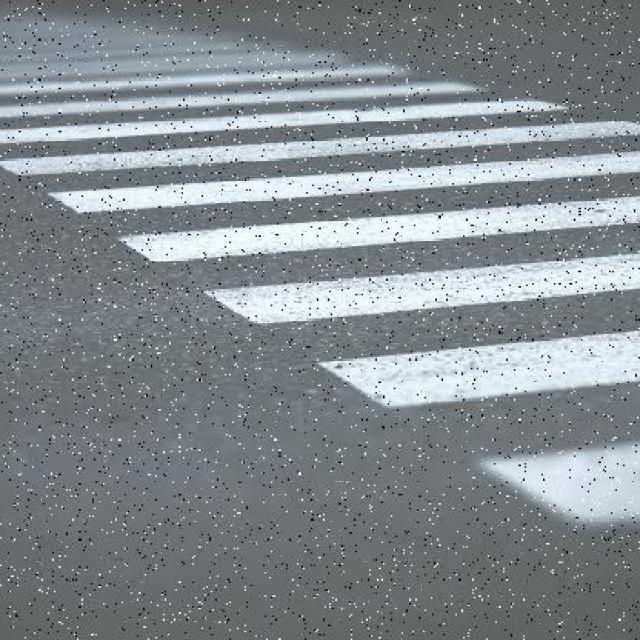crosswalk: (1, 12, 640, 541)
